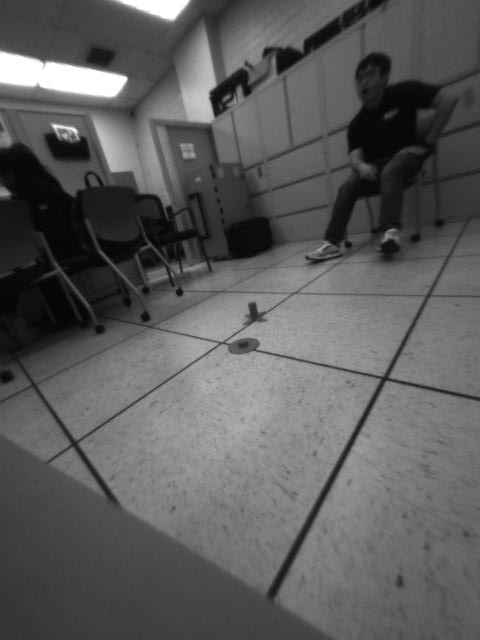X: (240, 301, 269, 327)
